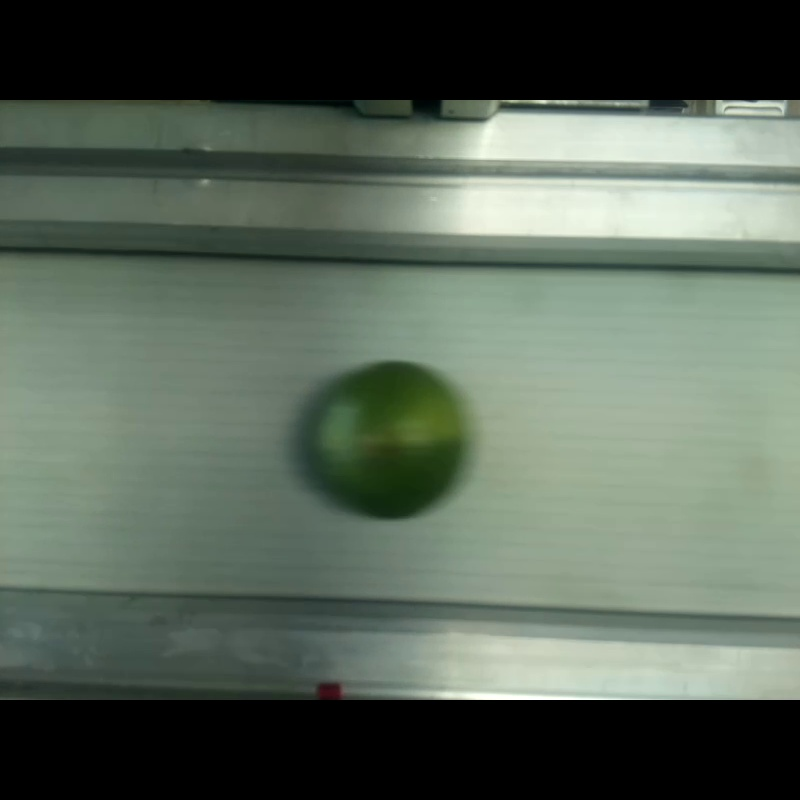lime: (314, 362, 461, 517)
